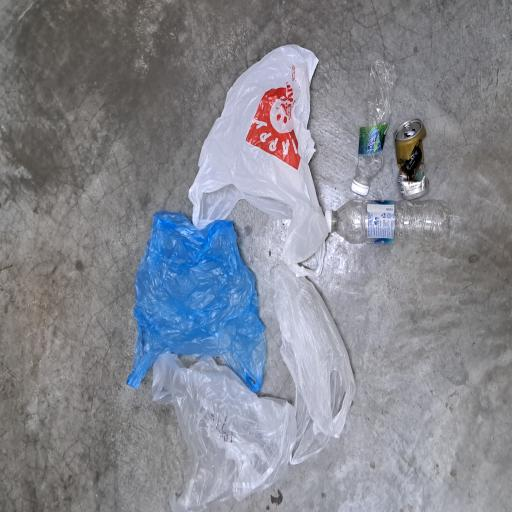plastic bag: (178, 252, 352, 436), (88, 169, 226, 357), (0, 203, 125, 395), (36, 365, 186, 477)
plastic bottle: (246, 472, 338, 512), (200, 442, 235, 512)
plastic bottle cap: (237, 468, 251, 492), (210, 433, 226, 443)
